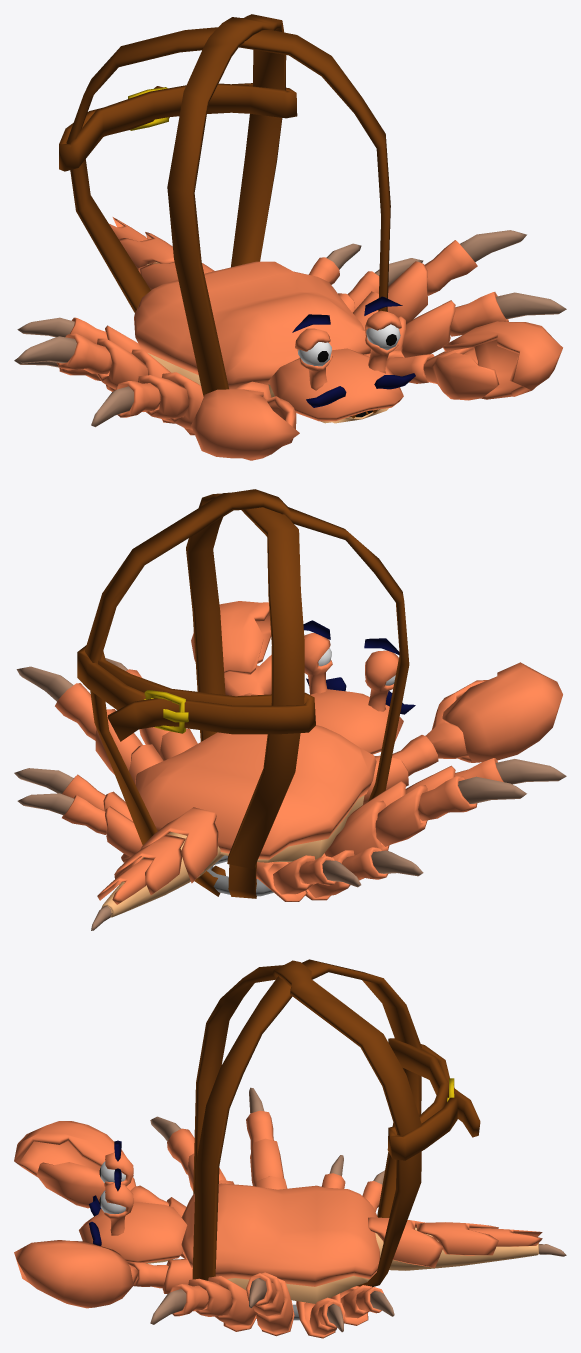
The model's file is SM_Carb_Suicide.001.fbx.
The picture shows the model from 3 angles, top to bottom: view 1: azimuth 30°, elevation 25°; view 2: azimuth 150°, elevation 25°; view 3: azimuth 270°, elevation 25°; orthographic projection. The views are drawn at different scales.
Parts seen in each view (by area): view 1: SM_CARB_Orange; view 2: SM_CARB_Orange; view 3: SM_CARB_Orange.
Part boxes in pixels (bbox=[...]): SM_CARB_Orange: bbox=[14, 14, 566, 460]; SM_CARB_Orange: bbox=[14, 489, 566, 930]; SM_CARB_Orange: bbox=[14, 959, 566, 1338].
Size of the model in its own units: 116 by 108 by 78.11.
